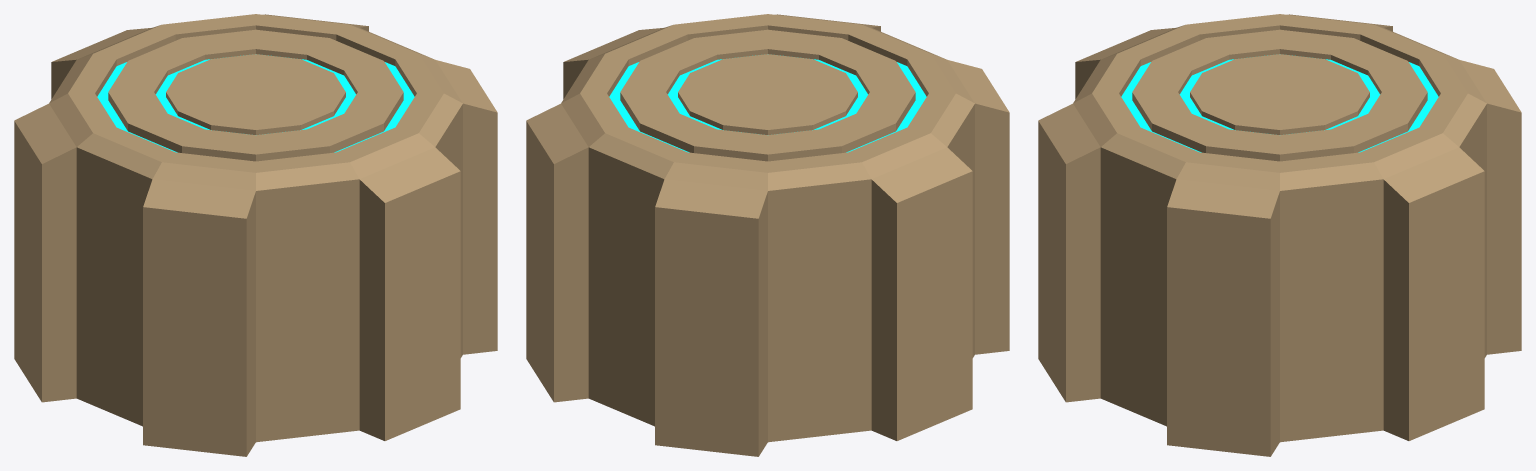
The model's file is WayStone.fbx.
3 views of the same model, side by side, from view 1: azimuth 30°, elevation 25°; view 2: azimuth 150°, elevation 25°; view 3: azimuth 270°, elevation 25° (orthographic).
Parts seen in each view (by area): view 1: WayStone; view 2: WayStone; view 3: WayStone.
Part boxes in pixels (<box>): WayStone: <box>14,14,497,456</box>; WayStone: <box>526,14,1009,456</box>; WayStone: <box>1038,14,1521,456</box>.
Size of the model in its own units: 467 by 280 by 467.
